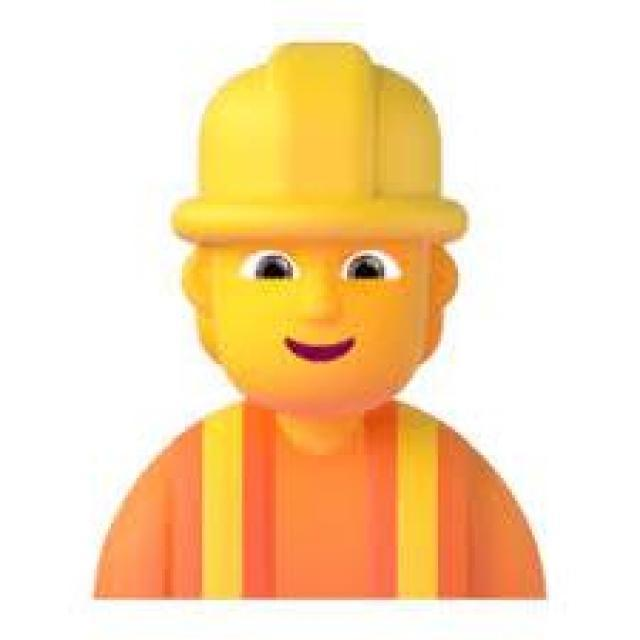reflective_jacket: (33, 398, 634, 605)
safety_helmet: (167, 34, 475, 241)
